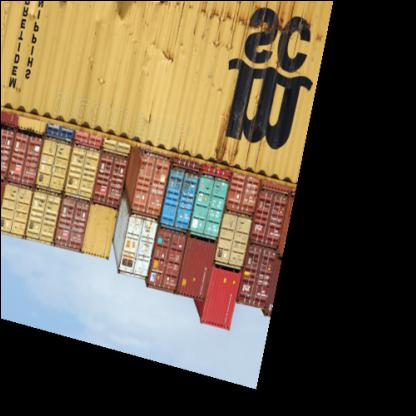Damage: (174, 7, 296, 56)
